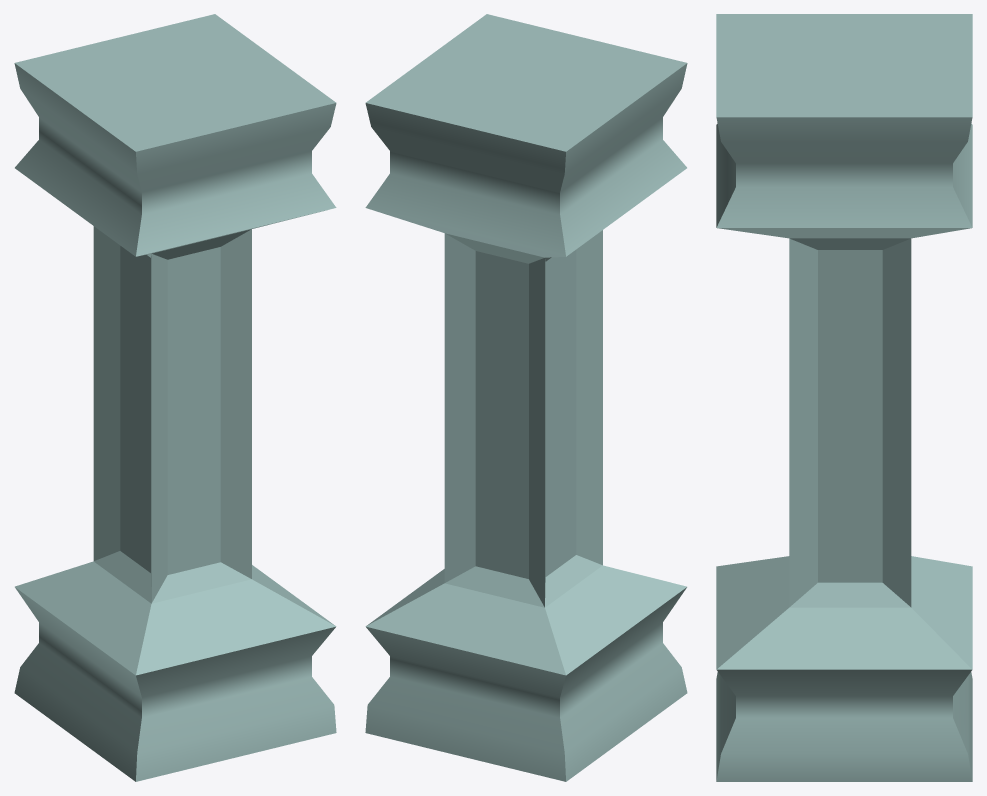
Rendered from BPillarL.fbx.
3 views of the same model, side by side, from view 1: azimuth 30°, elevation 25°; view 2: azimuth 150°, elevation 25°; view 3: azimuth 270°, elevation 25° (orthographic). The views are drawn at different scales.
Visible parts, largest first — view 1: BPillarL; view 2: BPillarL; view 3: BPillarL.
Part boxes in pixels (x1,y1,x2,y2): BPillarL: (14,14,336,781); BPillarL: (365,14,687,781); BPillarL: (716,14,972,781).
Size of the model in its own units: 200 by 600 by 210.
